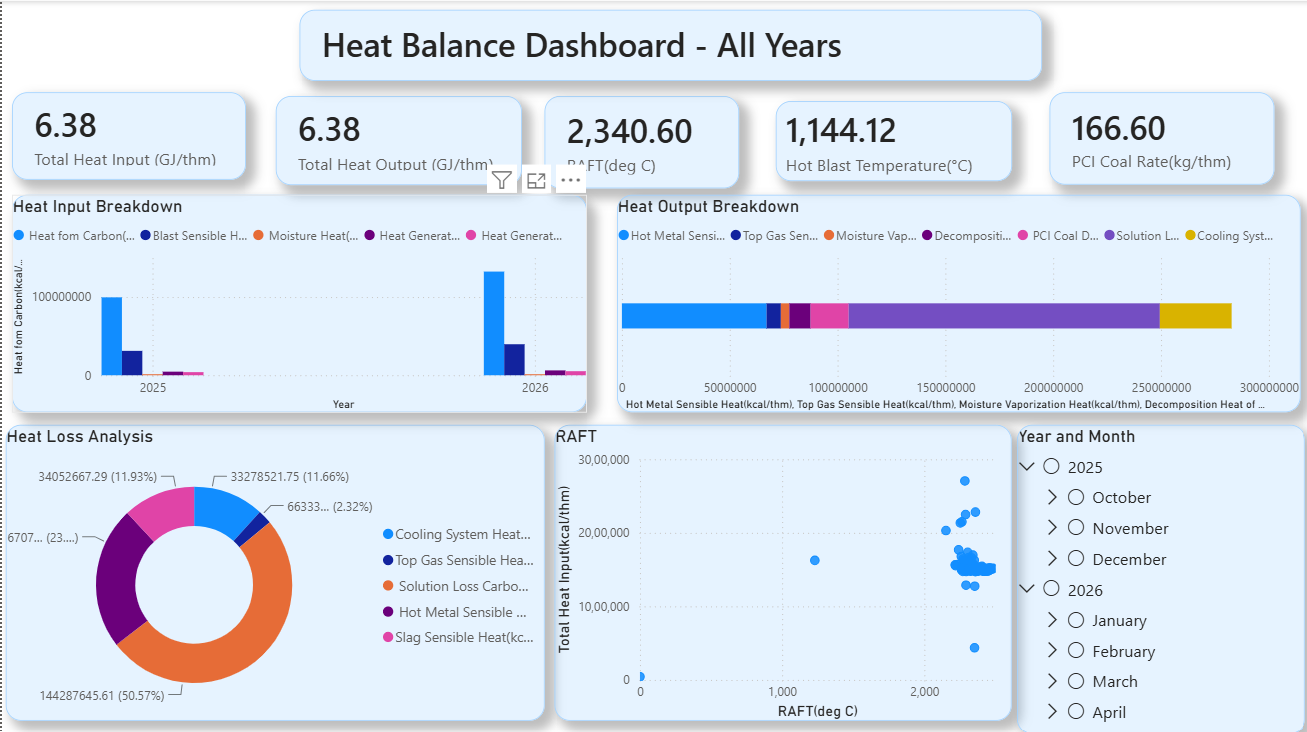

What the dashboard file says about the page in this screenshot:
{"tool":"powerbi","page":{"name":"Heat Balance","canvas":[1280,720],"ordinal":1},"visuals":[{"type":"cardVisual","fields":{"Data":["Heat Balance.Total Heat Input (GJ/thm)"]},"box":[9.8,89.3,228.7,85.6],"z":0},{"type":"cardVisual","fields":{"Data":["Heat Balance.Total Heat Output (GJ/thm)"]},"box":[267.8,92.9,240.9,86.8],"z":1000},{"type":"cardVisual","fields":{"Data":["Avg(Heat Balance.RAFT(deg C))"]},"box":[530.7,92.9,190.8,90.5],"z":2000},{"type":"cardVisual","fields":{"Data":["Avg(Heat Balance.Hot Blast Temperature)"]},"box":[756.9,97.8,231.1,78.3],"z":3000},{"type":"cardVisual","fields":{"Data":["Avg(Heat Balance.PCI Coal Rate)"]},"box":[1024.7,89.3,220.1,90.5],"z":4000},{"type":"barChart","title":"Heat Output Breakdown","fields":{"Y":["Sum(Heat Balance.Hot Metal Sensible Heat(kcal/thm))","Sum(Heat Balance.Top Gas Sensible Heat(kcal/thm))","Sum(Heat Balance.Moisture Vaporization Heat(kcal/thm))","Sum(Heat Balance.Decomposition Heat of Moisture(kcal/thm))","Sum(Heat Balance.PCI Coal Decomposition Heat(kcal/thm))","Sum(Heat Balance.Solution Loss Carbon Heat(kcal/thm))","Sum(Heat Balance.Cooling System Heat Loss(kcal/thm))"]},"box":[601.6,189.5,668.9,212.8],"z":5000},{"type":"donutChart","title":"Heat Loss Analysis","fields":{"Y":["Sum(Heat Balance.Cooling System Heat Loss(kcal/thm))","Sum(Heat Balance.Top Gas Sensible Heat(kcal/thm))","Sum(Heat Balance.Solution Loss Carbon Heat(kcal/thm))","Sum(Heat Balance.Hot Metal Sensible Heat(kcal/thm))","Sum(Heat Balance.Slag Sensible Heat(kcal/thm))"]},"box":[3.7,414.5,527,289.8],"z":6000},{"type":"scatterChart","title":"RAFT ","fields":{"Y":["Heat Balance.Total Heat Input(kcal/thm)"],"X":["Heat Balance.RAFT(deg C)"]},"box":[540.5,414.5,447.6,289.8],"z":7000},{"type":"cardVisual","fields":{"Data":["Heat Balance.Dashboard Title1"]},"box":[291,8.6,726.4,69.7],"z":8000},{"type":"clusteredColumnChart","title":" Heat Input Breakdown","fields":{"Y":["Sum(Heat Balance.Heat fom Carbon(kcal/thm))","Sum(Heat Balance.Blast Sensible Heat(kcal/thm))","Sum(Heat Balance.Moisture Heat(kcal/thm))","Sum(Heat Balance.Heat Generated by Slag Formation (kcal/thm))","Sum(Heat Balance.Heat Generated by Indirect Reduction(kcal/thm))"],"Category":["Mass Balance.Date.Variation.Date Hierarchy.Year"]},"box":[9.8,189.5,562.5,212.8],"z":9000},{"type":"listSlicer","fields":{"Values":["Mass Balance.Date.Variation.Date Hierarchy.Year","Mass Balance.Date.Variation.Date Hierarchy.Month","Mass Balance.Date.Variation.Date Hierarchy.Day"]},"box":[992.9,414.5,282.5,303.3],"z":10000}]}

Visuals, with their boxes in screenshot pixels (x1, y1, x2, y2), scaled from the page's 1280x720 canvas onto the 1307x732 screenshot:
cardVisual - Heat Balance.Total Heat Input (GJ/thm): Rect(10, 91, 244, 178)
cardVisual - Heat Balance.Total Heat Output (GJ/thm): Rect(273, 94, 519, 183)
cardVisual - Avg(Heat Balance.RAFT(deg C)): Rect(542, 94, 737, 186)
cardVisual - Avg(Heat Balance.Hot Blast Temperature): Rect(773, 99, 1009, 179)
cardVisual - Avg(Heat Balance.PCI Coal Rate): Rect(1046, 91, 1271, 183)
"Heat Output Breakdown" barChart: Rect(614, 193, 1297, 409)
"Heat Loss Analysis" donutChart: Rect(4, 421, 542, 716)
"RAFT " scatterChart: Rect(552, 421, 1009, 716)
cardVisual - Heat Balance.Dashboard Title1: Rect(297, 9, 1039, 80)
" Heat Input Breakdown" clusteredColumnChart: Rect(10, 193, 584, 409)
listSlicer - Mass Balance.Date.Variation.Date Hierarchy.Year x Mass Balance.Date.Variation.Date Hierarchy.Month: Rect(1014, 421, 1302, 730)
